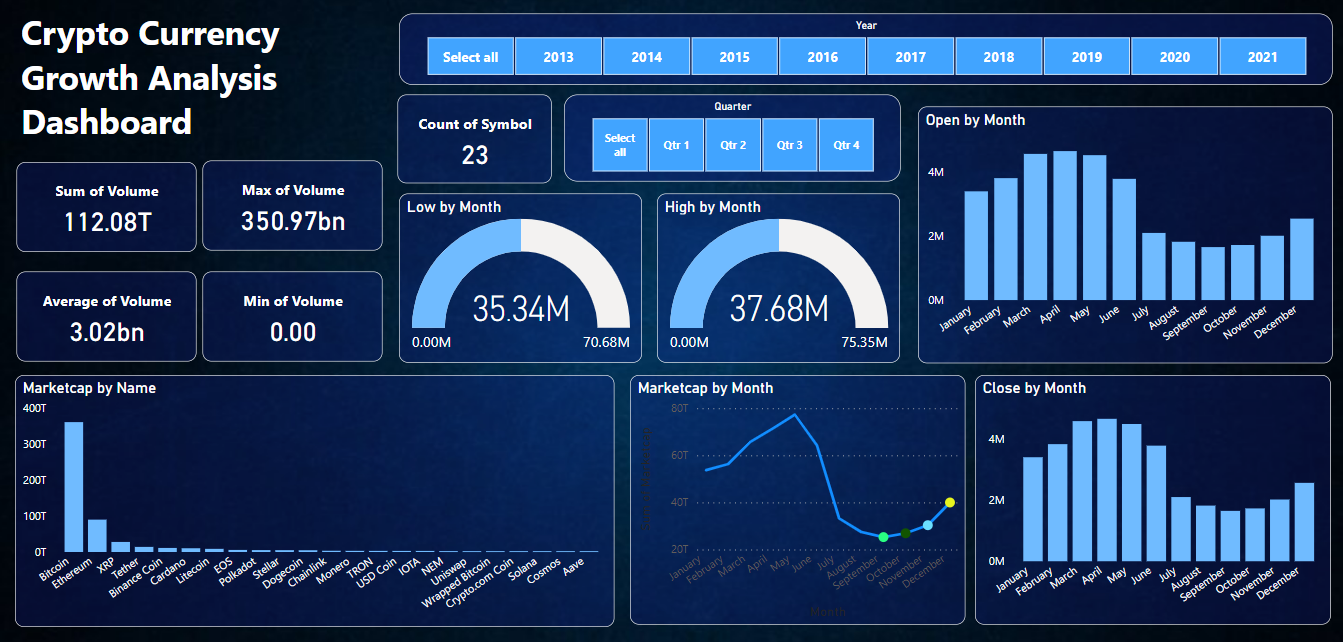

This screenshot's page, from the dashboard's own definition file:
{"tool":"powerbi","page":{"name":"Page 1","canvas":[1500,720],"ordinal":0},"visuals":[{"type":"textbox","box":[21.1,8.9,406.7,163.3],"z":0},{"type":"columnChart","title":"Open by Month","fields":{"Category":["CryptoData.Date.Variation.Date Hierarchy.Month"],"Y":["Sum(CryptoData.Open)"]},"box":[1022.9,120.8,460.4,285.4],"z":1000},{"type":"gauge","title":"Low by Month","fields":{"Y":["Sum(CryptoData.Low)"]},"box":[446.7,217.8,270,187.8],"z":2000},{"type":"lineChart","title":"Marketcap by Month","fields":{"Category":["CryptoData.Date.Variation.Date Hierarchy.Month"],"Y":["Sum(CryptoData.Marketcap)"]},"box":[702.7,420,372.7,277.3],"z":3000},{"type":"slicer","title":"Year","fields":{"Values":["CryptoData.Date.Variation.Date Hierarchy.Year"]},"box":[445.8,18.8,1037.5,79.2],"z":4000},{"type":"gauge","title":"High by Month","fields":{"Y":["Sum(CryptoData.High)"]},"box":[734,218,270,188],"z":5000},{"type":"columnChart","title":"Close by Month","fields":{"Category":["CryptoData.Date.Variation.Date Hierarchy.Month"],"Y":["Sum(CryptoData.Close)"]},"box":[1087.3,420,395.5,277.3],"z":6000},{"type":"slicer","title":"Quarter","fields":{"Values":["CryptoData.Date.Variation.Date Hierarchy.Quarter"]},"box":[629.8,108.3,373.8,96.4],"z":7000},{"type":"clusteredColumnChart","title":"Marketcap by Name","fields":{"Category":["CryptoData.Name"],"Y":["Sum(CryptoData.Marketcap)"]},"box":[20,420,666,280],"z":8000},{"type":"cardVisual","fields":{"Data":["Sum(CryptoData.Volume)"]},"box":[21.7,182.6,200,100],"z":9000},{"type":"cardVisual","fields":{"Data":["Avg(CryptoData.Volume)"]},"box":[21.7,304.3,200,100],"z":10000},{"type":"cardVisual","fields":{"Data":["Max(CryptoData.Volume)"]},"box":[227.8,182.2,200,100],"z":11000},{"type":"cardVisual","fields":{"Data":["Min(CryptoData.Volume)"]},"box":[227.8,304.4,200,100],"z":12000},{"type":"cardVisual","fields":{"Data":["Count(CryptoData.Symbol)"]},"box":[445.6,107.8,171.1,98.9],"z":13000}]}

Visuals, with their boxes in screenshot pixels (x1, y1, x2, y2), scaled from the page's 1500x720 canvas onto the 1343x642 screenshot:
textbox: detection(19, 8, 383, 154)
"Open by Month" columnChart: detection(916, 108, 1328, 362)
"Low by Month" gauge: detection(400, 194, 642, 362)
"Marketcap by Month" lineChart: detection(629, 374, 963, 622)
"Year" slicer: detection(399, 17, 1328, 87)
"High by Month" gauge: detection(657, 194, 899, 362)
"Close by Month" columnChart: detection(973, 374, 1328, 622)
"Quarter" slicer: detection(564, 97, 899, 183)
"Marketcap by Name" clusteredColumnChart: detection(18, 374, 614, 624)
cardVisual - Sum(CryptoData.Volume): detection(19, 163, 198, 252)
cardVisual - Avg(CryptoData.Volume): detection(19, 271, 198, 361)
cardVisual - Max(CryptoData.Volume): detection(204, 162, 383, 252)
cardVisual - Min(CryptoData.Volume): detection(204, 271, 383, 361)
cardVisual - Count(CryptoData.Symbol): detection(399, 96, 552, 184)
